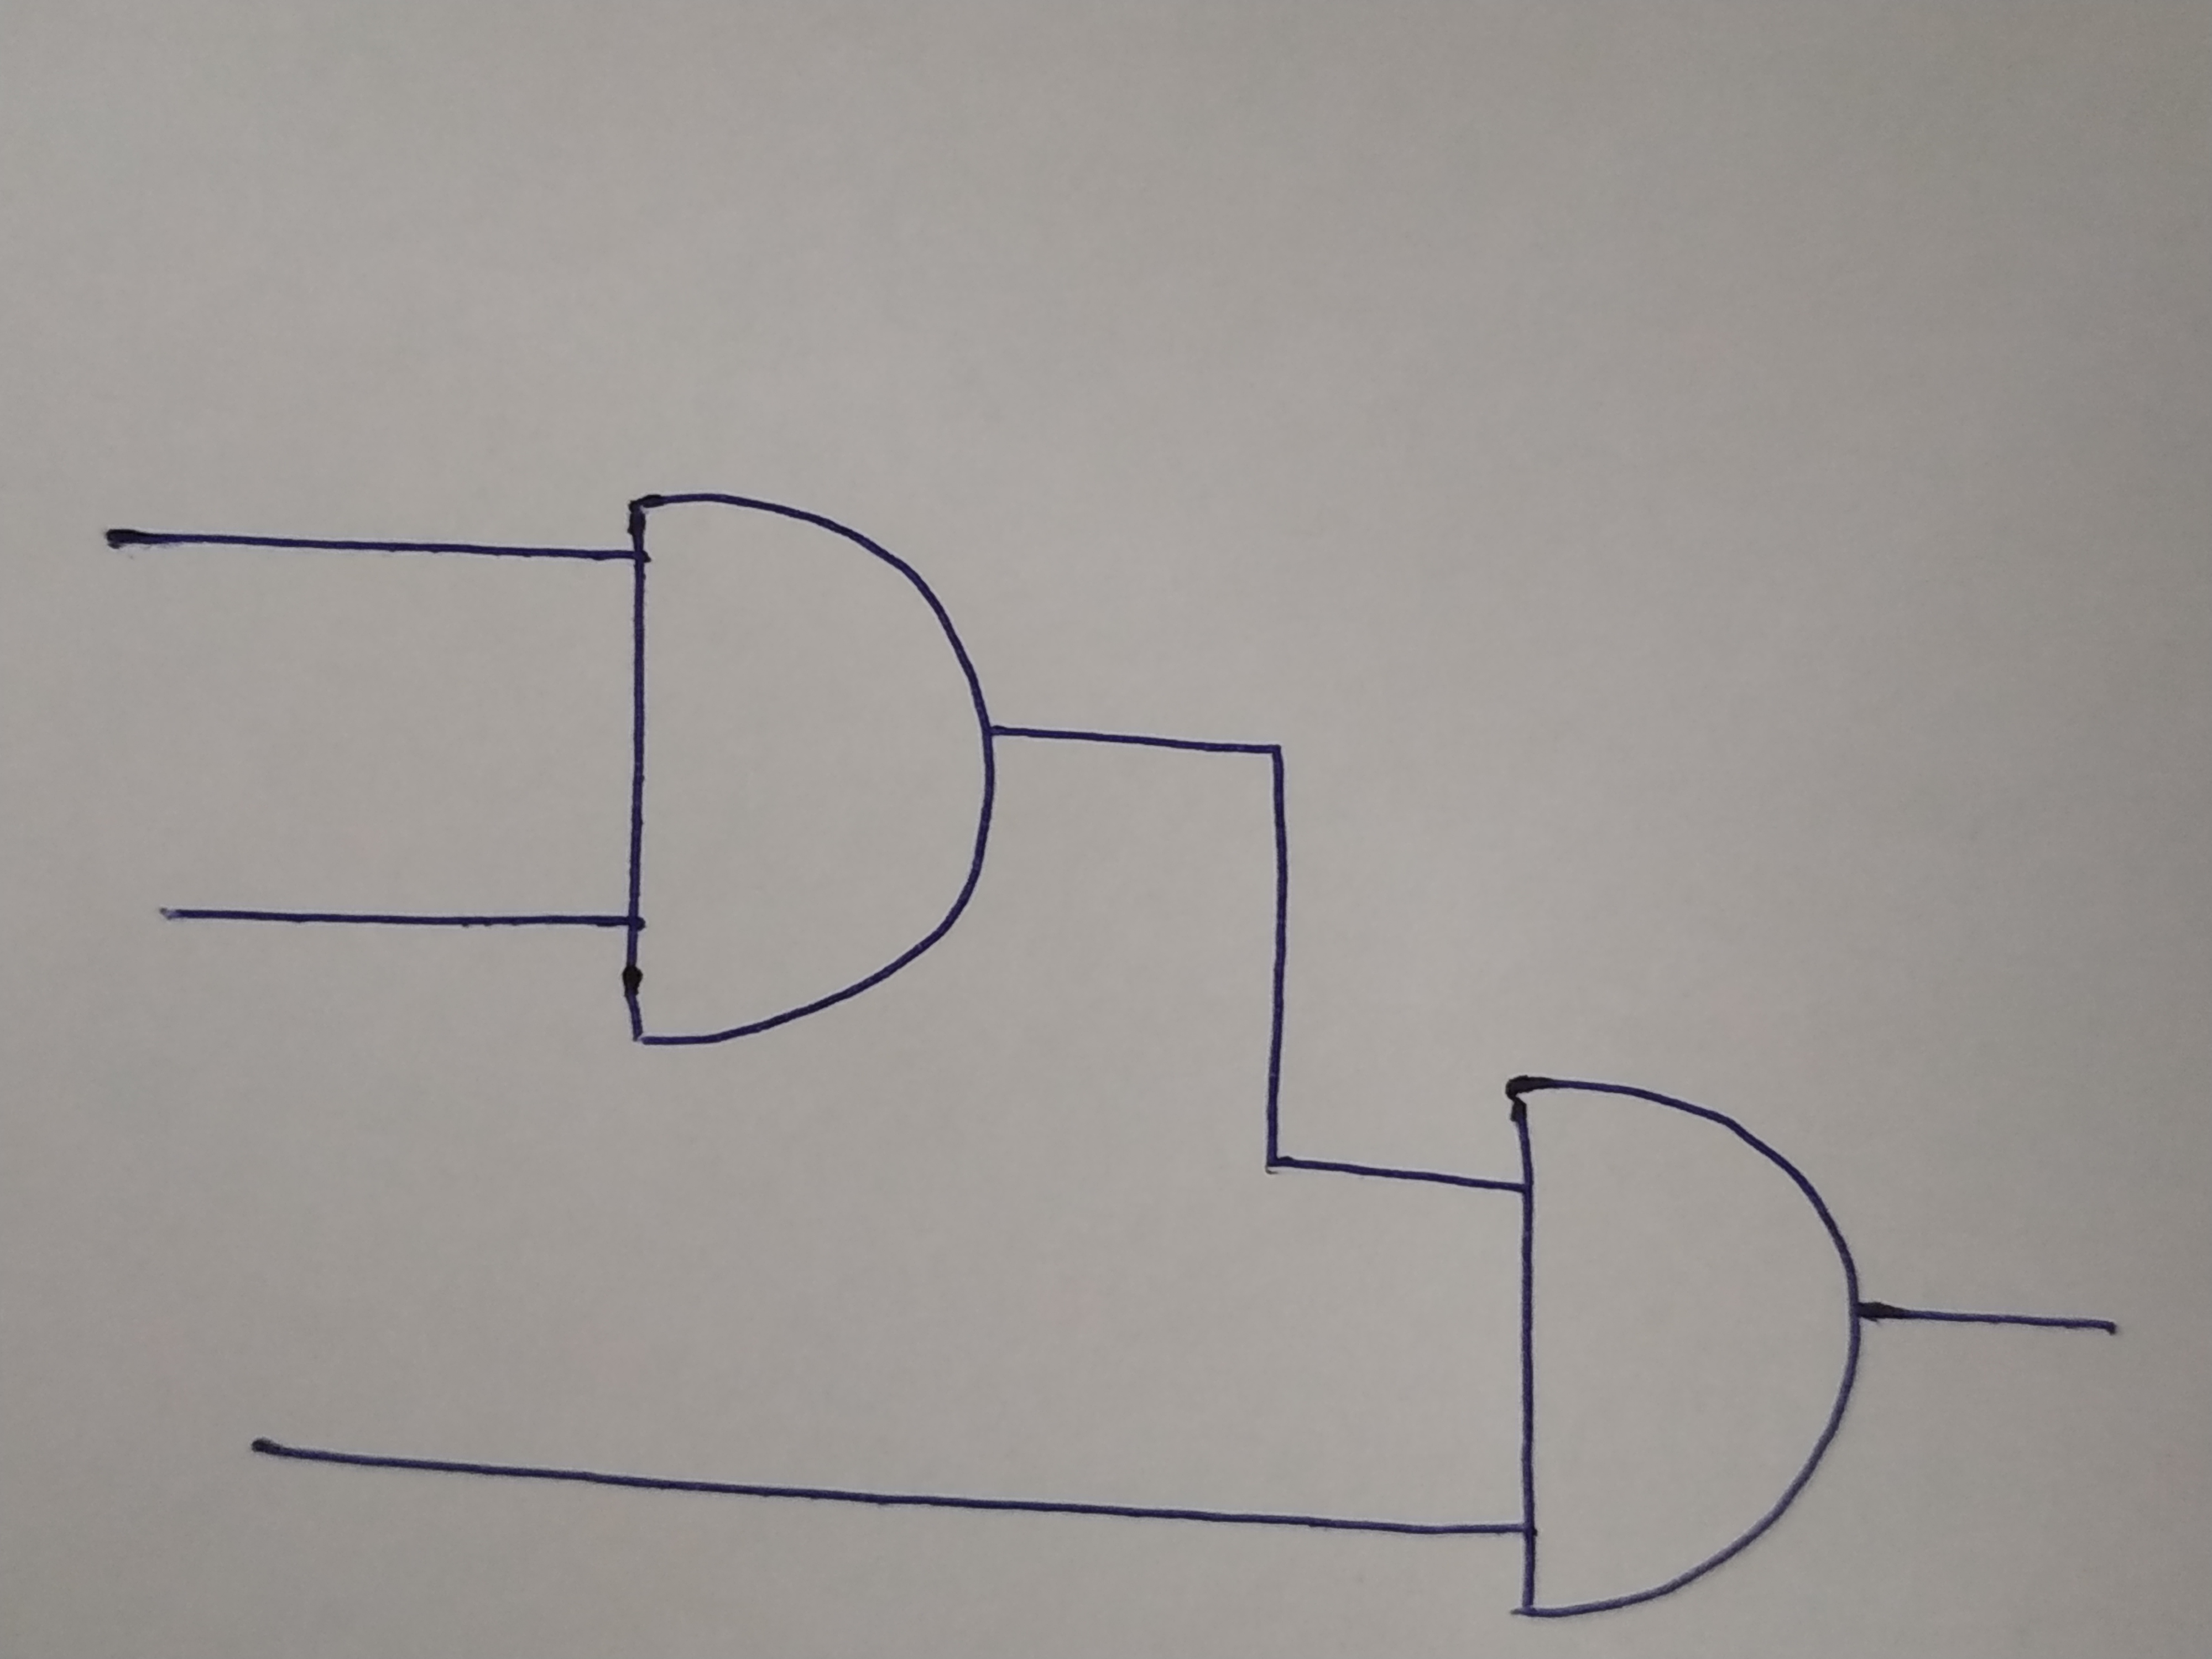and: (620, 493, 995, 1044), (1505, 1079, 1857, 1615)
